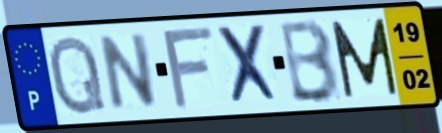B: (279, 17, 343, 106)
F: (160, 23, 217, 113)
M: (328, 16, 401, 101)
N: (98, 30, 160, 114)
Q: (46, 32, 109, 118)
X: (213, 22, 285, 108)
